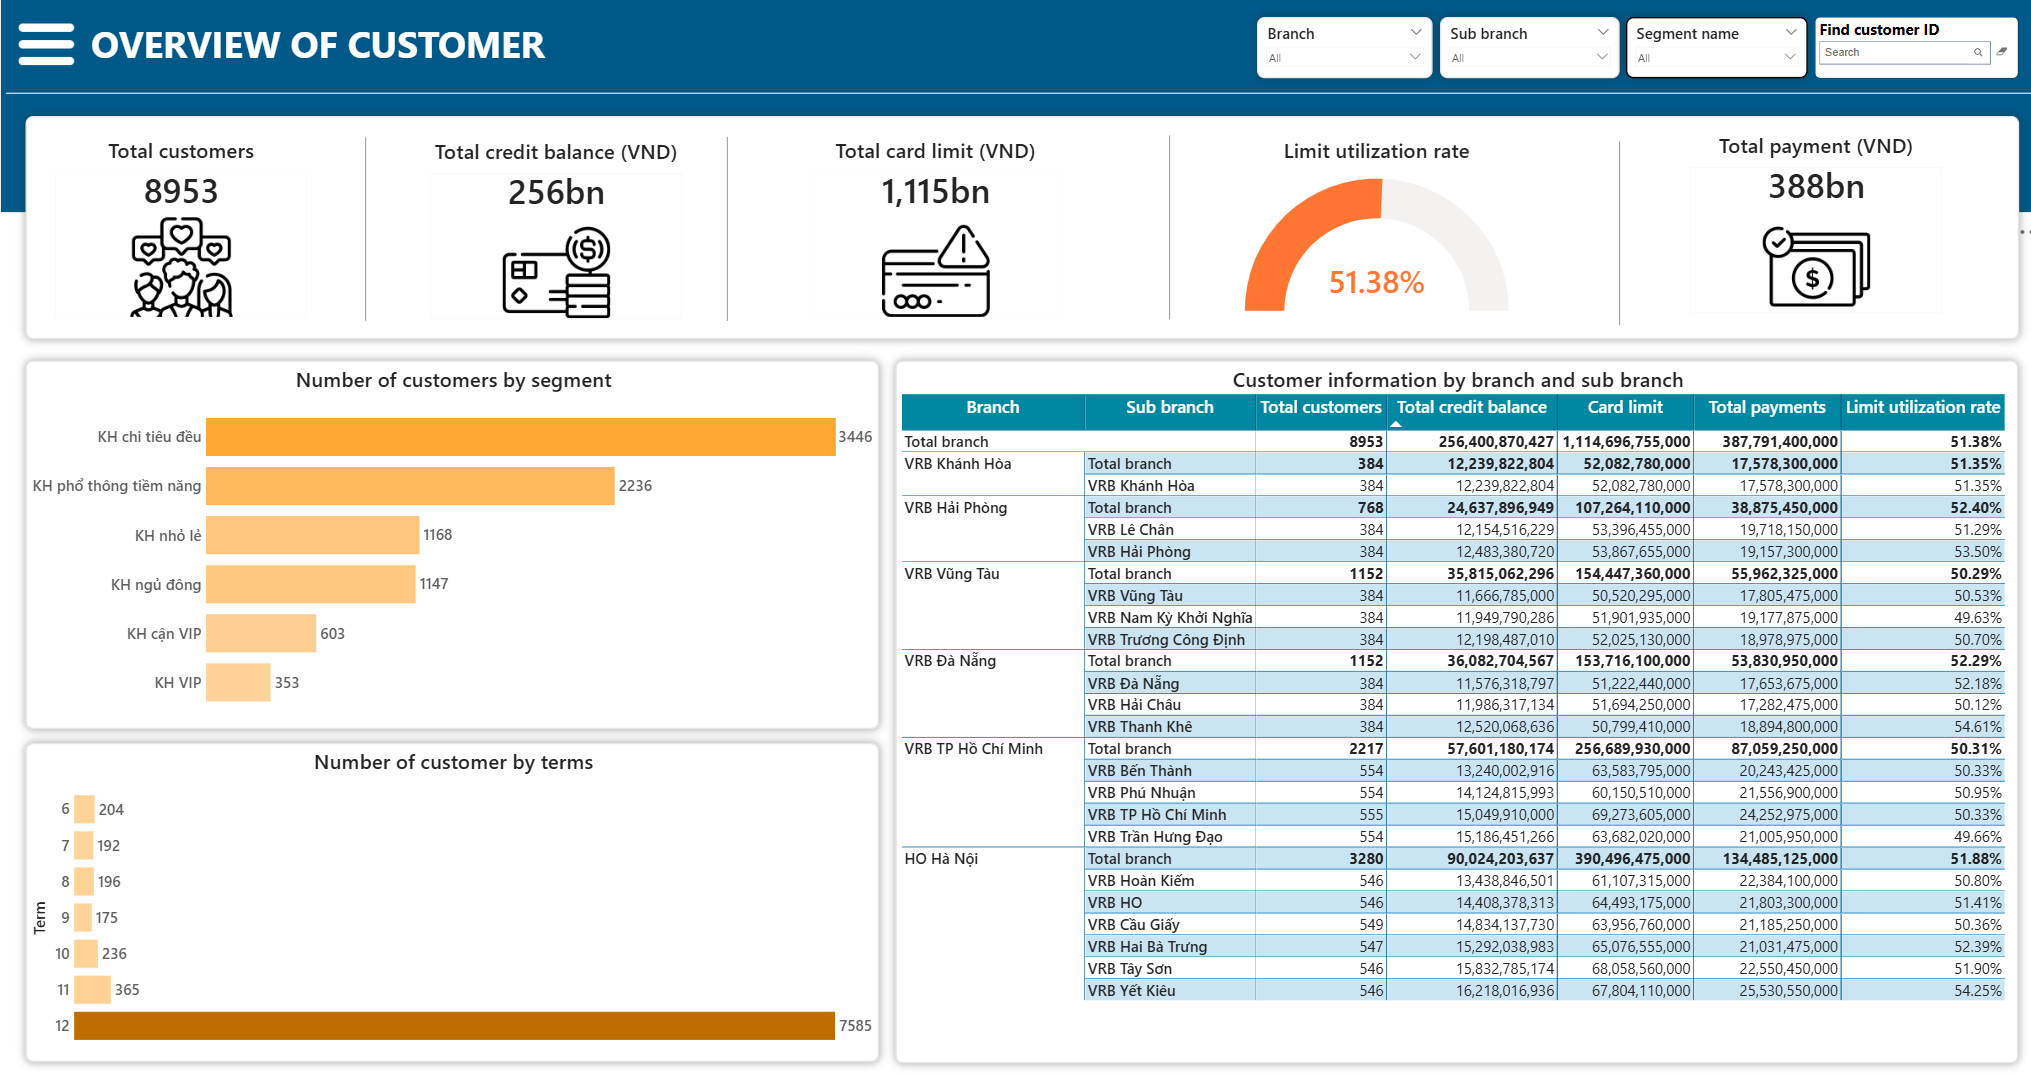

What the dashboard file says about the page in this screenshot:
{"tool":"powerbi","page":{"name":"Overview","canvas":[4000,2133],"ordinal":0},"visuals":[{"type":"shape","box":[0,0,3998.8,419],"z":0},{"type":"slicer","fields":{"Values":["DIM_BRANCH.BRN_NAME"]},"box":[2462.7,34.8,344.1,119.8],"z":1000},{"type":"shape","box":[48.6,228.2,3905.3,437.7],"z":1000,"group":"g1"},{"type":"textbox","box":[172.1,33.7,1298,119.7],"z":2000},{"type":"slicer","fields":{"Values":["DIM_SUB_BRANCH.SUB_BRN_NAME"]},"box":[2822.2,34.8,351.8,119.8],"z":3000},{"type":"clusteredBarChart","title":"Number of customers by segment","fields":{"Category":["DIM_CUSTOMER_SEGMENT.SEGMENT_NAME"],"Y":["Count(CREDIT_USE_CUSTOMER.CUS_ID)"]},"box":[48.6,707,1672.1,721.9],"z":4000},{"type":"shape","box":[635.9,268.6,157.1,360.2],"z":5000,"group":"g1"},{"type":"pivotTable","title":"Customer information by branch and sub branch","fields":{"Rows":["DIM_BRANCH.BRN_NAME","DIM_SUB_BRANCH.SUB_BRN_NAME"],"Values":["Count(CREDIT_USE_CUSTOMER.CUS_ID)","DAX_MEASURE.AVG_CREDIT_BALANCE","DAX_MEASURE.Card_limit","DAX_MEASURE.total_pay","DAX_MEASURE.limit utilization rate"]},"box":[1754.4,707,2199.5,1376.6],"z":5000},{"type":"slicer","fields":{"Values":["DIM_CUSTOMER_SEGMENT.SEGMENT_NAME"]},"box":[3185.6,34.8,355.7,119.8],"z":6000},{"type":"shape","box":[1376.5,268.6,93.5,360.2],"z":6000,"group":"g1"},{"type":"shape","box":[11.2,153.4,3976.3,63.6],"z":7000},{"type":"shape","box":[2210.7,265.2,157.1,360.2],"z":7000,"group":"g1"},{"type":"textFilter25A4896A83E0487089E2B90C9AE57C8A","title":"Find customer ID ","fields":{"field":["CREDIT_USE_CUSTOMER.CUS_ID_TEXT"]},"box":[3556.7,34.8,398.2,119.8],"z":8000},{"type":"shape","box":[3093.5,278.7,157.1,360.2],"z":8000,"group":"g1"},{"type":"group","id":"g1","title":"Group 1","box":[48.6,228.2,3905.3,437.7],"z":8500},{"type":"image","title":"Image_C","box":[22.4,22.4,134.7,130.9],"z":10000},{"type":"cardVisual","title":"Total customers","fields":{"Data":["Count(CREDIT_USE_CUSTOMER.CUS_ID)"]},"box":[89.7,265.2,527.4,373.7],"z":12000,"group":"g1"},{"type":"clusteredBarChart","title":"Number of customer by terms","fields":{"Category":["CREDIT_USE_CUSTOMER.TERM"],"Y":["Count(CREDIT_USE_CUSTOMER.CUS_ID)"]},"box":[48.6,1458.9,1672.1,624.7],"z":12000},{"type":"cardVisual","title":"Total credit balance (VND)","fields":{"Data":["DAX_MEASURE.TT_CREDIT_BALANCE"]},"box":[822.9,268.6,527.4,373.7],"z":15000,"group":"g1"},{"type":"cardVisual","title":"Total card limit (VND)","fields":{"Data":["DAX_MEASURE.Card_limit"]},"box":[1567.3,265.2,527.4,373.7],"z":16000,"group":"g1"},{"type":"gauge","title":"Limit utilization rate","fields":{"Y":["DAX_MEASURE.Tỷ lệ sử dụng hạn mức"]},"box":[2431.4,265.2,527.4,373.7],"z":17000,"group":"g1"},{"type":"cardVisual","title":"Total payment (VND)","fields":{"Data":["DAX_MEASURE.TOTALPAYMENT"]},"box":[3291.8,258.5,527.4,373.7],"z":18000,"group":"g1"}]}

Visuals, with their boxes in screenshot pixels (x1, y1, x2, y2), scaled from the page's 4000x2133 canvas onto the 2031x1075 screenshot:
shape: pyautogui.locateOnScreen(0, 0, 2030, 211)
slicer - DIM_BRANCH.BRN_NAME: pyautogui.locateOnScreen(1250, 18, 1425, 78)
shape: pyautogui.locateOnScreen(25, 115, 2008, 336)
textbox: pyautogui.locateOnScreen(87, 17, 746, 77)
slicer - DIM_SUB_BRANCH.SUB_BRN_NAME: pyautogui.locateOnScreen(1433, 18, 1612, 78)
"Number of customers by segment" clusteredBarChart: pyautogui.locateOnScreen(25, 356, 874, 720)
shape: pyautogui.locateOnScreen(323, 135, 403, 317)
"Customer information by branch and sub branch" pivotTable: pyautogui.locateOnScreen(891, 356, 2008, 1050)
slicer - DIM_CUSTOMER_SEGMENT.SEGMENT_NAME: pyautogui.locateOnScreen(1617, 18, 1798, 78)
shape: pyautogui.locateOnScreen(699, 135, 746, 317)
shape: pyautogui.locateOnScreen(6, 77, 2025, 109)
shape: pyautogui.locateOnScreen(1122, 134, 1202, 315)
"Find customer ID " textFilter25A4896A83E0487089E2B90C9AE57C8A: pyautogui.locateOnScreen(1806, 18, 2008, 78)
shape: pyautogui.locateOnScreen(1571, 140, 1650, 322)
"Group 1" group: pyautogui.locateOnScreen(25, 115, 2008, 336)
"Image_C" image: pyautogui.locateOnScreen(11, 11, 80, 77)
"Total customers" cardVisual: pyautogui.locateOnScreen(46, 134, 313, 322)
"Number of customer by terms" clusteredBarChart: pyautogui.locateOnScreen(25, 735, 874, 1050)
"Total credit balance (VND)" cardVisual: pyautogui.locateOnScreen(418, 135, 686, 324)
"Total card limit (VND)" cardVisual: pyautogui.locateOnScreen(796, 134, 1064, 322)
"Limit utilization rate" gauge: pyautogui.locateOnScreen(1235, 134, 1502, 322)
"Total payment (VND)" cardVisual: pyautogui.locateOnScreen(1671, 130, 1939, 319)
